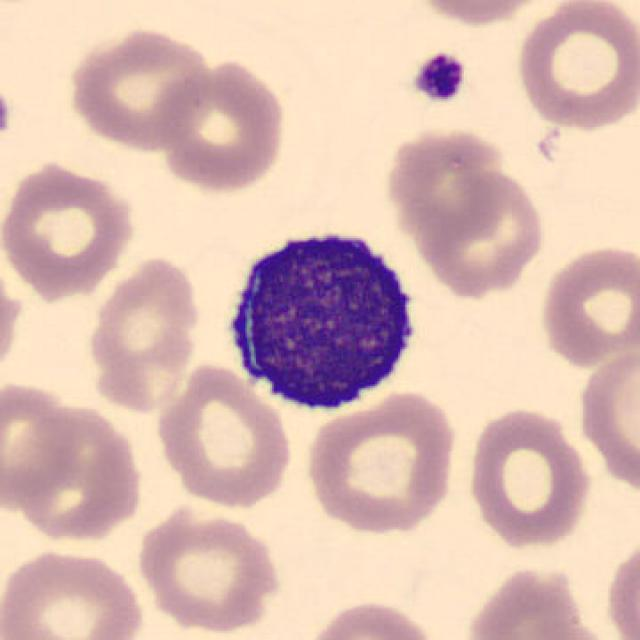Lymphocyte: (215, 215, 427, 420)
Platelets: (409, 49, 469, 106)
RBC: (303, 388, 461, 539), (153, 361, 295, 513), (135, 503, 286, 637), (0, 155, 137, 302), (66, 23, 217, 153), (86, 249, 205, 413), (466, 404, 592, 554), (155, 55, 288, 196), (407, 168, 548, 295), (512, 0, 636, 134), (0, 546, 147, 640), (534, 242, 639, 370), (462, 563, 592, 639), (299, 596, 443, 640), (406, 0, 557, 32)
